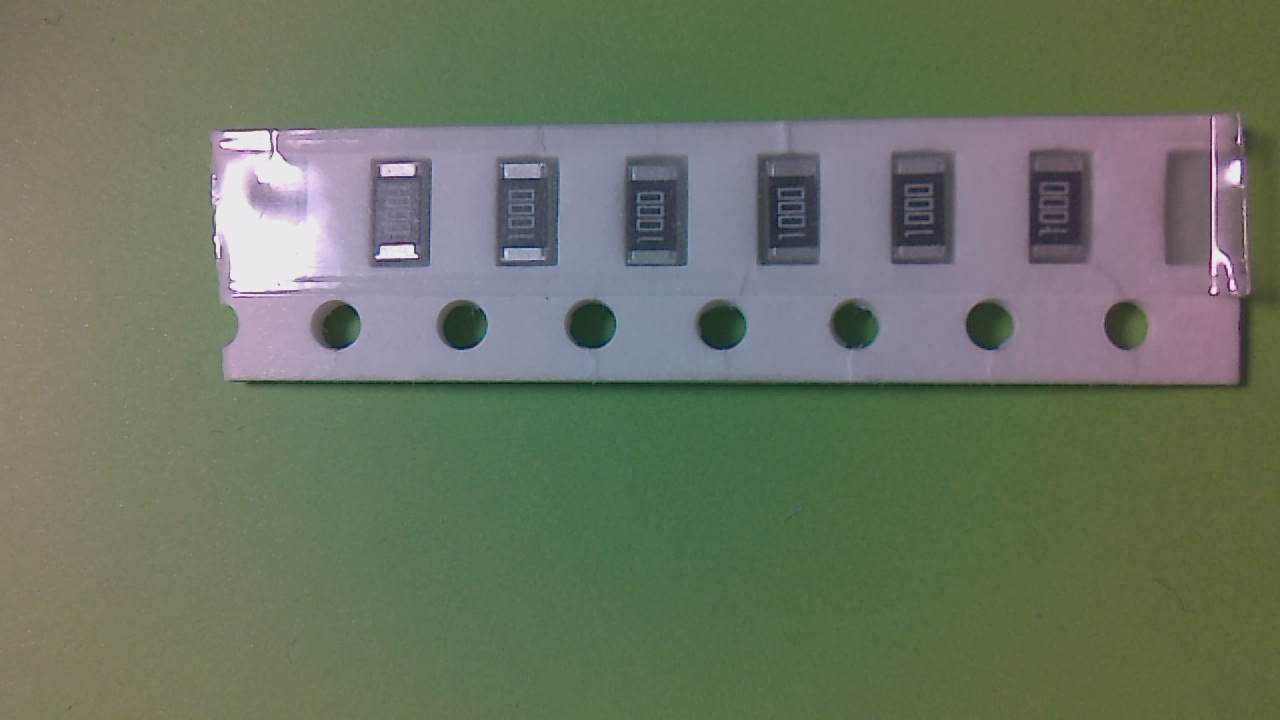Resistor: (895, 160, 959, 271), (1034, 155, 1093, 272), (764, 159, 827, 268), (629, 167, 691, 271), (500, 168, 561, 273), (375, 168, 434, 273), (256, 169, 304, 268)
